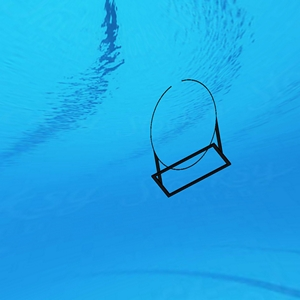circle: (141, 78, 233, 202)
